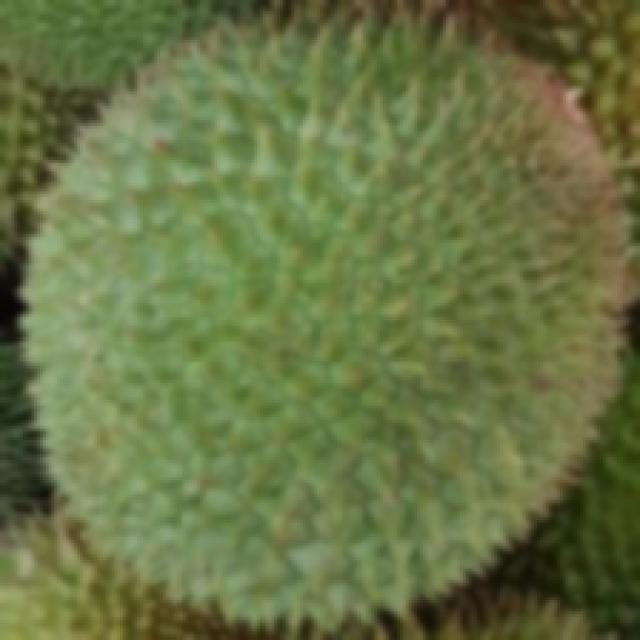d175: (22, 12, 631, 626)
